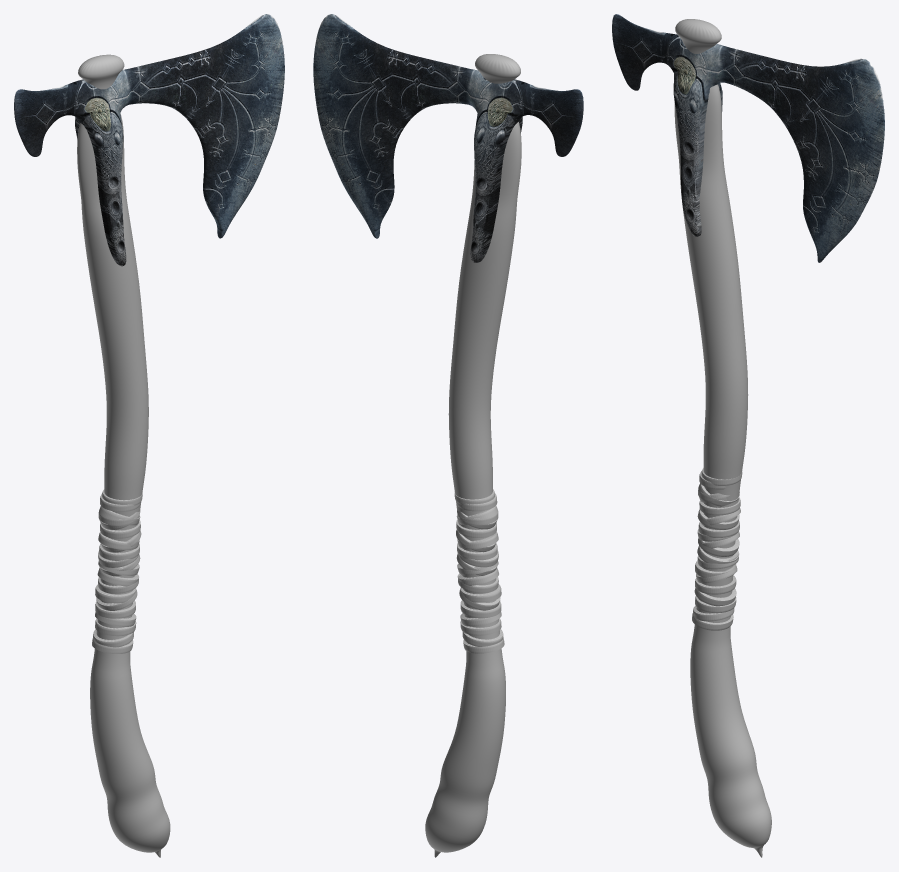
Rendered from Axe.fbx.
The picture shows the model from 3 angles, left to right: view 1: azimuth 30°, elevation 25°; view 2: azimuth 150°, elevation 25°; view 3: azimuth 330°, elevation 25°; orthographic projection.
Parts seen in each view (by area): view 1: Cylinder, Plane, Cylinder.018; view 2: Plane, Cylinder, Cylinder.018; view 3: Cylinder, Plane, Cylinder.018.
Boxes of the visible parts, bbox=[...] form: Cylinder: bbox=[77, 54, 170, 857]; Plane: bbox=[14, 14, 284, 266]; Cylinder.018: bbox=[92, 489, 142, 653]; Plane: bbox=[313, 14, 583, 262]; Cylinder: bbox=[425, 54, 521, 857]; Cylinder.018: bbox=[454, 489, 504, 653]; Cylinder: bbox=[674, 19, 771, 857]; Plane: bbox=[612, 14, 884, 262]; Cylinder.018: bbox=[692, 468, 742, 630].
Bounding box in the file's own units: 919 × 2656 × 192.
3 materials, 1 textured.
